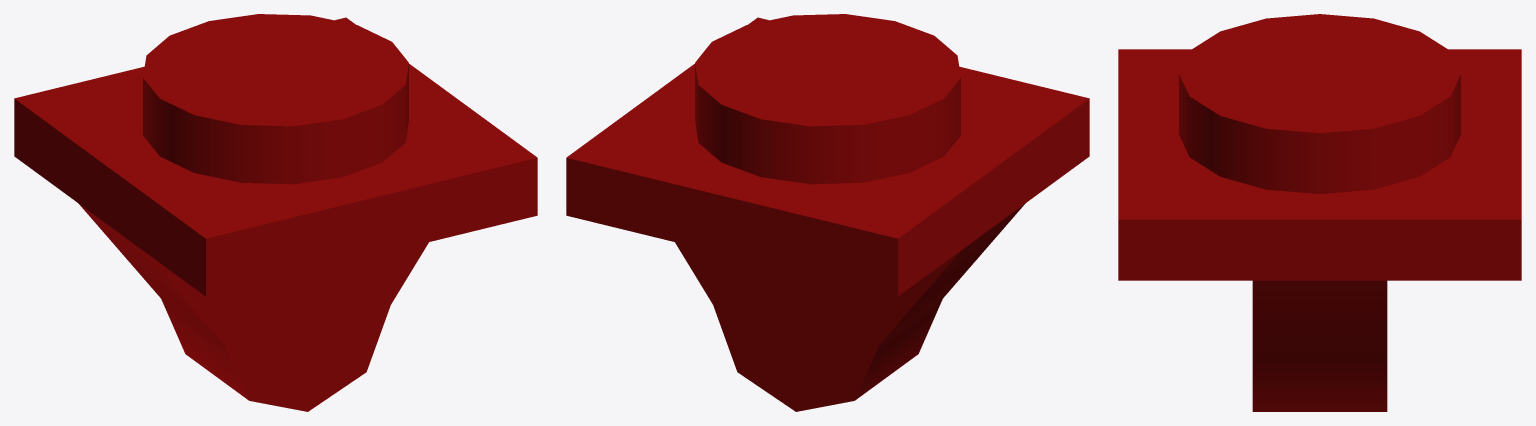
Rendered from SM_Actuator_1x1x1_Top.gltf.
The picture shows the model from 3 angles, left to right: view 1: azimuth 30°, elevation 25°; view 2: azimuth 150°, elevation 25°; view 3: azimuth 270°, elevation 25°; orthographic projection. The views are drawn at different scales.
Parts seen in each view (by area): view 1: SM_Actuator_1x1x1_Top; view 2: SM_Actuator_1x1x1_Top; view 3: SM_Actuator_1x1x1_Top.
Boxes of the visible parts, <box> form: SM_Actuator_1x1x1_Top: <box>14,14,537,411</box>; SM_Actuator_1x1x1_Top: <box>566,14,1089,411</box>; SM_Actuator_1x1x1_Top: <box>1118,14,1521,411</box>.
Bounding box in the file's own units: 0.3 × 0.275 × 0.3.
